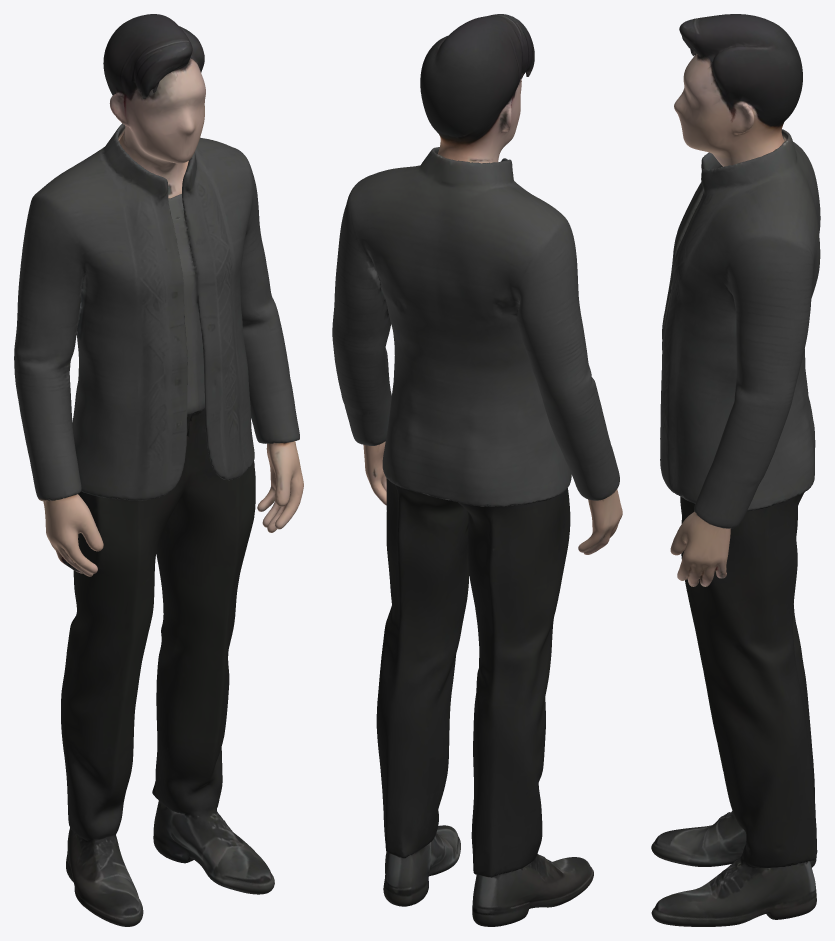
The model's file is man-02.glb.
3 renders of one model, left to right at view 1: azimuth 30°, elevation 25°; view 2: azimuth 150°, elevation 25°; view 3: azimuth 270°, elevation 25°, orthographic.
Visible parts, largest first — view 1: tripo_node_35806da4-74c5-4ff4-8bf2-bda68060d504; view 2: tripo_node_35806da4-74c5-4ff4-8bf2-bda68060d504; view 3: tripo_node_35806da4-74c5-4ff4-8bf2-bda68060d504.
Part boxes in pixels (left/top/right/bottom): tripo_node_35806da4-74c5-4ff4-8bf2-bda68060d504: left=14, top=14, right=303, bottom=926; tripo_node_35806da4-74c5-4ff4-8bf2-bda68060d504: left=332, top=14, right=622, bottom=926; tripo_node_35806da4-74c5-4ff4-8bf2-bda68060d504: left=651, top=14, right=820, bottom=926.
Size of the model in its own units: 0.3133 by 1 by 0.1757.
1 material, 1 textured.
